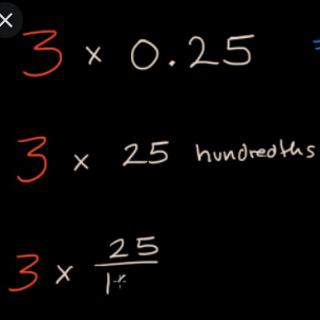.: (163, 52, 182, 72)
0: (125, 35, 163, 73)
1: (98, 268, 116, 299)
2: (185, 30, 219, 74), (112, 137, 147, 167), (104, 233, 129, 260)
3: (18, 29, 70, 86), (4, 246, 44, 300), (12, 133, 51, 186)
5: (220, 29, 255, 71), (146, 134, 172, 169), (132, 231, 161, 258)
